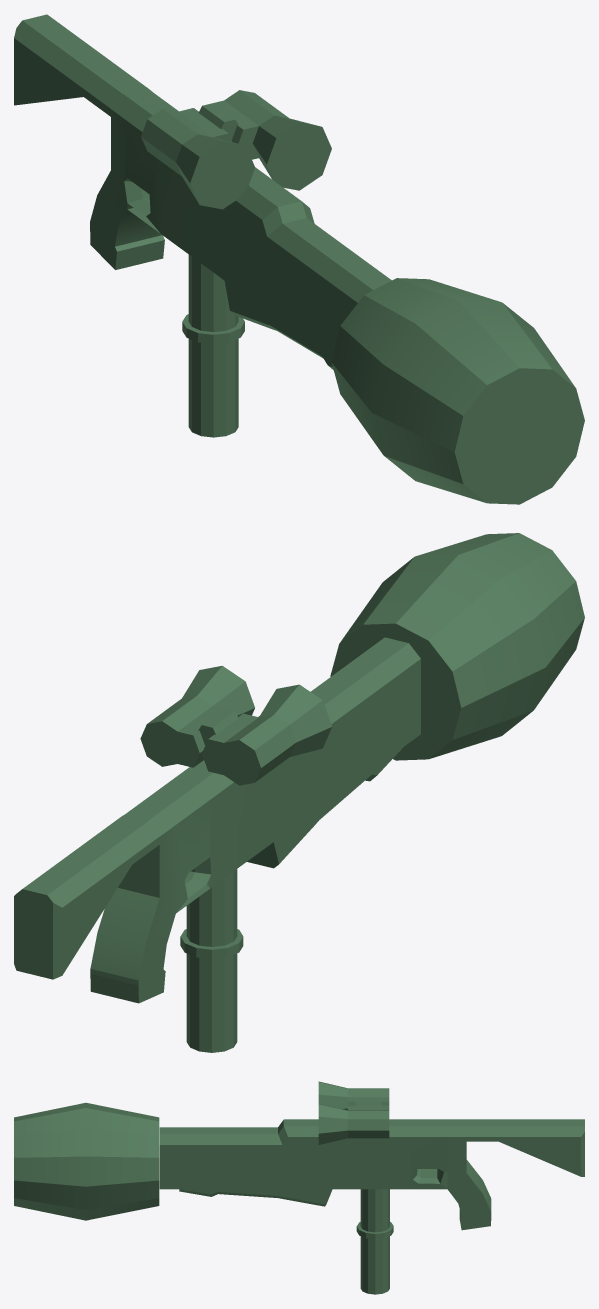
File: literalGun.fbx
3 renders of one model, top to bottom at view 1: azimuth 30°, elevation 25°; view 2: azimuth 150°, elevation 25°; view 3: azimuth 270°, elevation 25°, orthographic. The views are drawn at different scales.
Parts seen in each view (by area): view 1: literalGun_barrel, literalGun_body, literalGun_scope, literalGun_magazine, literalGun_stock; view 2: literalGun_body, literalGun_barrel, literalGun_scope, literalGun_stock, literalGun_magazine; view 3: literalGun_body, literalGun_barrel, literalGun_stock, literalGun_scope, literalGun_magazine.
Boxes of the visible parts, x1,y1,x2,y2 form: literalGun_barrel: [331, 278, 584, 504]; literalGun_body: [90, 88, 391, 369]; literalGun_scope: [141, 90, 331, 209]; literalGun_magazine: [182, 254, 244, 437]; literalGun_stock: [14, 14, 150, 116]; literalGun_body: [90, 637, 420, 1003]; literalGun_barrel: [330, 533, 584, 760]; literalGun_scope: [140, 665, 332, 785]; literalGun_stock: [14, 815, 159, 979]; literalGun_magazine: [180, 869, 243, 1052]; literalGun_body: [159, 1119, 491, 1230]; literalGun_barrel: [14, 1102, 159, 1220]; literalGun_stock: [466, 1119, 584, 1176]; literalGun_scope: [318, 1081, 389, 1144]; literalGun_magazine: [356, 1189, 393, 1294].
Bounding box in the file's own units: 50 × 90.85 × 241.
